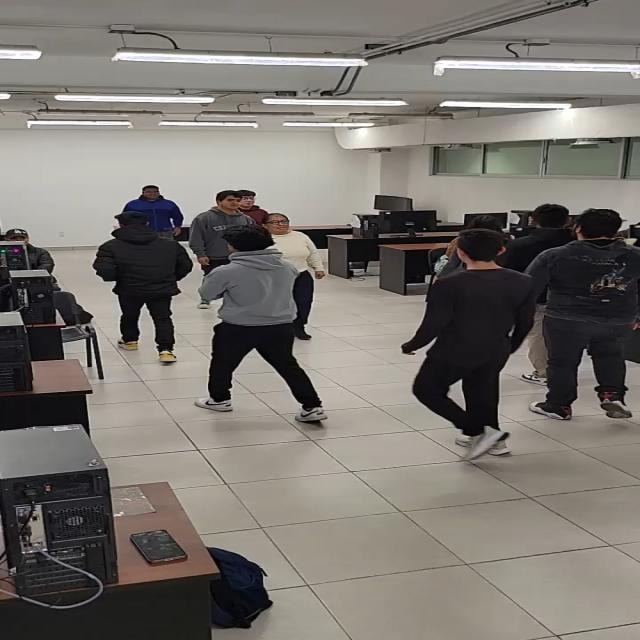Persona: (399, 228, 539, 462), (192, 224, 329, 424), (523, 207, 640, 420), (92, 212, 195, 363), (187, 191, 261, 308), (259, 211, 325, 340), (500, 204, 578, 266), (121, 185, 184, 240), (236, 190, 270, 223)
